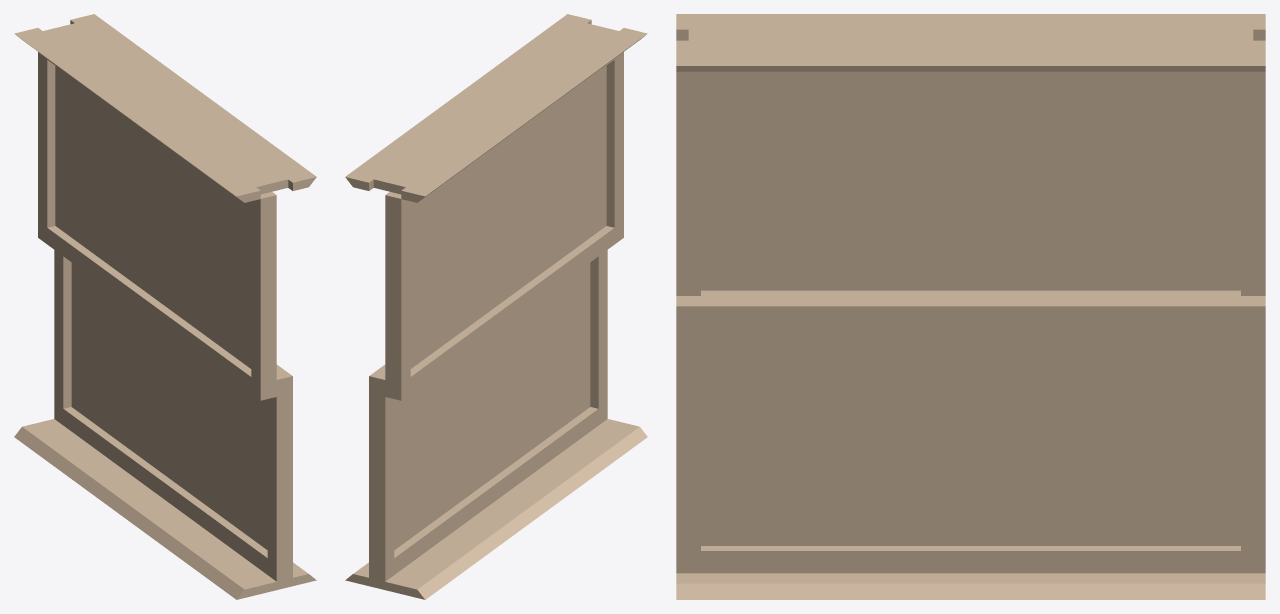
Rendered from cargo_door.obj.
The picture shows the model from 3 angles, left to right: view 1: azimuth 30°, elevation 25°; view 2: azimuth 150°, elevation 25°; view 3: azimuth 270°, elevation 25°; orthographic projection. The views are drawn at different scales.
Parts seen in each view (by area): view 1: DoorTop, DoorBot, Frame; view 2: DoorTop, DoorBot, Frame; view 3: DoorBot, DoorTop, Frame.
Boxes of the visible parts, <box> form: DoorTop: <box>38,52,276,400</box>; DoorBot: <box>54,250,292,581</box>; Frame: <box>14,14,316,599</box>; DoorTop: <box>385,52,623,400</box>; DoorBot: <box>369,250,607,581</box>; Frame: <box>345,14,647,599</box>; DoorBot: <box>676,296,1265,573</box>; DoorTop: <box>676,40,1265,295</box>; Frame: <box>676,14,1265,599</box>.
Bounding box in the file's own units: 0.625 × 3 × 3.
